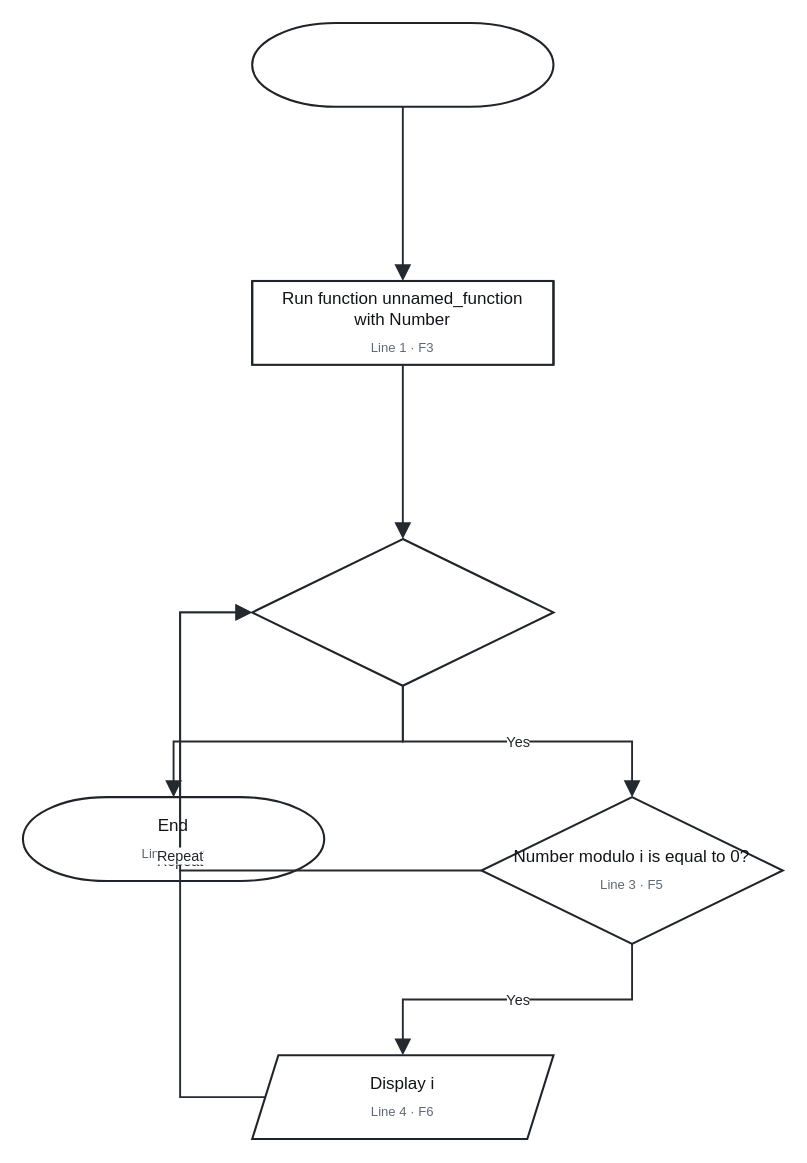
The diagram is 807 pixels wide and 1163 high, and some of its shapes have lost their labels. The shapes that lost their labels are listed below. From the top down, each one's centre as x and y in pixels, then its label:
the point at 402,64: Start Line 1 · F1
the point at 402,611: For i from 1 to Number plus 1 Line 2 · F4
